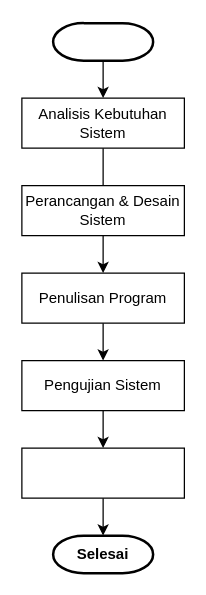
Image size: 206x595. Some labels were removed from this diagram. The shapes that lost their labels are listed below. From the top down, each one's centre as x and y in pixels, then its label:
At (102,41): "Mulai".
At (102,472): "Instalasi".
